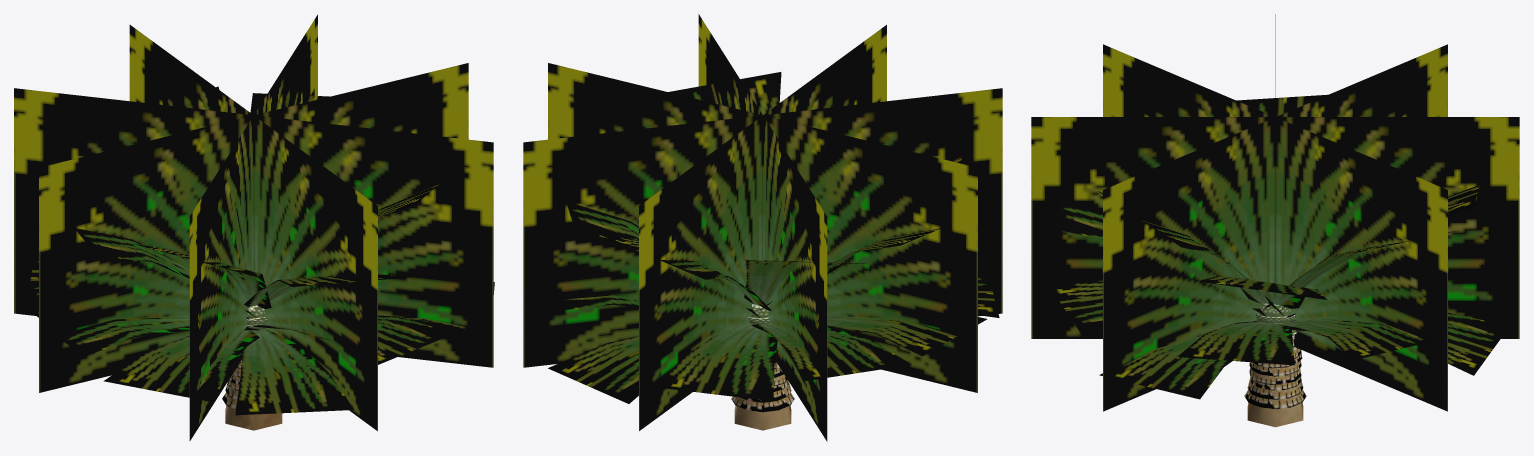
Rendered from plants_un_yuccarostrata01.gltf.
3 views of the same model, side by side, from view 1: azimuth 30°, elevation 25°; view 2: azimuth 150°, elevation 25°; view 3: azimuth 270°, elevation 25° (orthographic).
Parts seen in each view (by area): view 1: plants_un_yuccarostrata01_mesh_shape:plants_un_yuccarostrata; view 2: plants_un_yuccarostrata01_mesh_shape:plants_un_yuccarostrata; view 3: plants_un_yuccarostrata01_mesh_shape:plants_un_yuccarostrata.
Boxes of the visible parts, bbox=[...] form: plants_un_yuccarostrata01_mesh_shape:plants_un_yuccarostrata: bbox=[14, 14, 494, 441]; plants_un_yuccarostrata01_mesh_shape:plants_un_yuccarostrata: bbox=[523, 14, 1002, 441]; plants_un_yuccarostrata01_mesh_shape:plants_un_yuccarostrata: bbox=[1031, 14, 1519, 427].
Size of what is drawn, in the model's own units: 1.82 by 1.22 by 1.82.
Materials: 1 (1 with a texture image).
